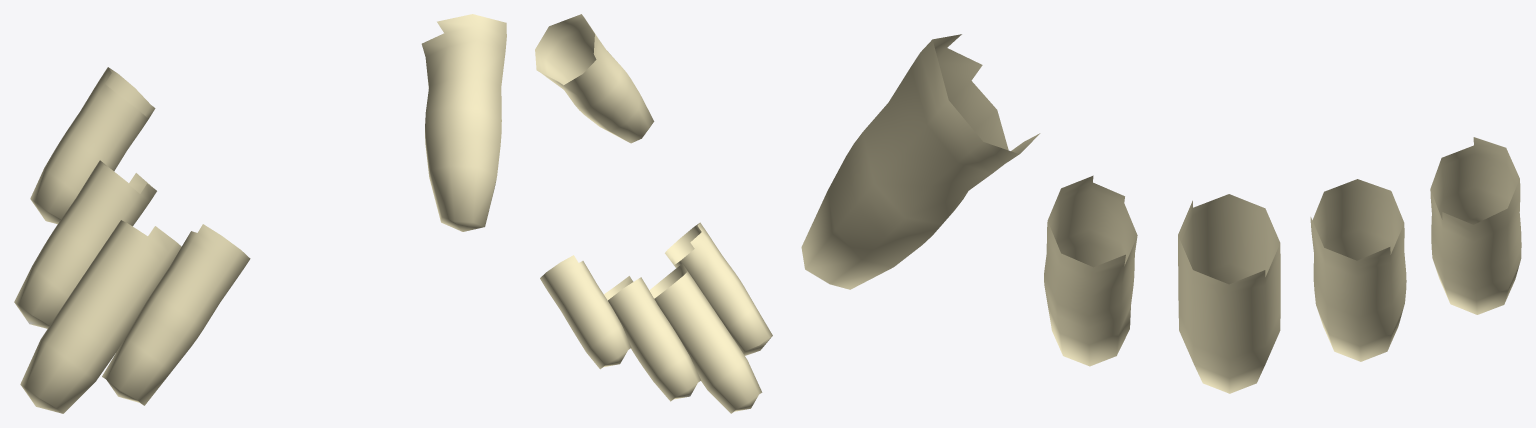
File: dedosD2.obj
3 views of the same model, side by side, from view 1: azimuth 30°, elevation 25°; view 2: azimuth 150°, elevation 25°; view 3: azimuth 270°, elevation 25° (orthographic). The views are drawn at different scales.
Visible parts, largest first — view 1: dedosD2; view 2: dedosD2; view 3: dedosD2.
Boxes of the visible parts, left/top/right/bottom form: dedosD2: left=14, top=14, right=506, bottom=413; dedosD2: left=535, top=14, right=772, bottom=413; dedosD2: left=801, top=34, right=1521, bottom=393.
Size of the model in its own units: 0.8632 by 0.8317 by 0.9422.
1 material, 1 textured.
